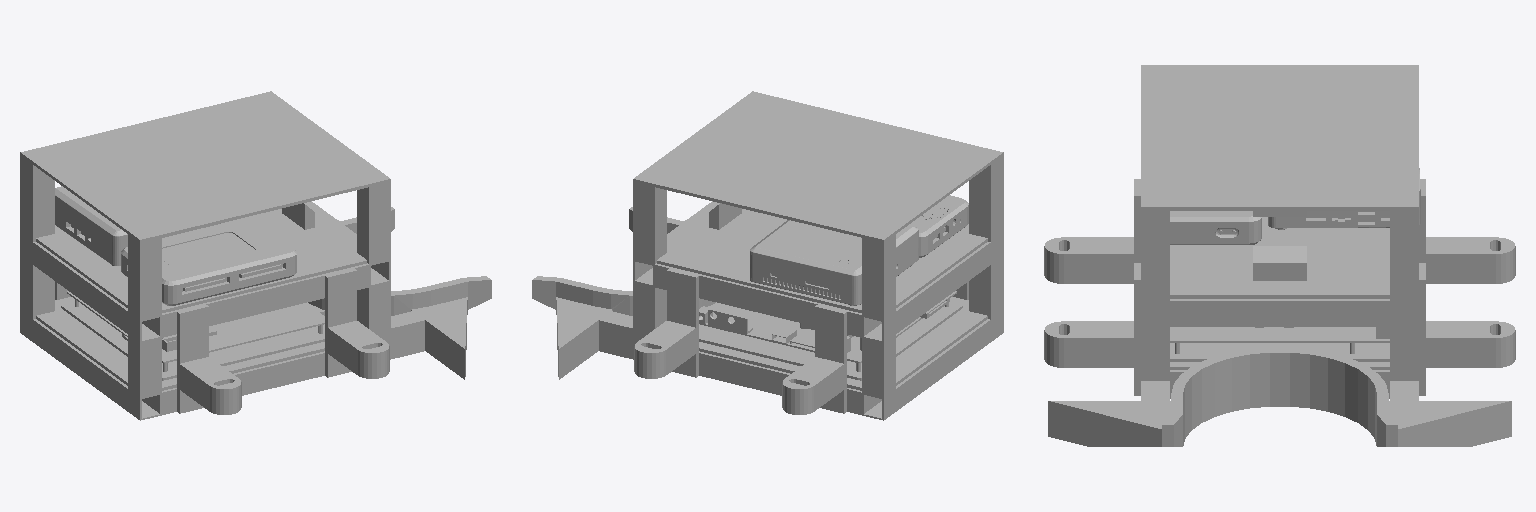
robot.urdf — lide:
<?xml version="1.0" encoding="utf-8"?>
<!-- This URDF was automatically created by SolidWorks to URDF Exporter! Originally created by [author] ([email redacted]) 
     Commit Version: 1.5.1-0-g916b5db  Build Version: 1.5.7152.31018
     For more information, please see http://wiki.ros.org/sw_urdf_exporter -->
<robot
  name="lide">
  <link
    name="base_link">
    <inertial>
      <origin
        xyz="-0.0875241348219497 0.00132743425076956 0.0474630684459225"
        rpy="0 0 0" />
      <mass
        value="3.15295004835025" />
      <inertia
        ixx="0.00732952370902921"
        ixy="-5.4757788471543E-07"
        ixz="-7.36488484962941E-06"
        iyy="0.00563296593577528"
        iyz="-3.00885497223983E-07"
        izz="0.0122350442649522" />
    </inertial>
    <visual>
      <origin
        xyz="0 0 0"
        rpy="0 0 0" />
      <geometry>
        <mesh
          filename="package://lide/meshes/base_link.STL" />
      </geometry>
      <material
        name="">
        <color
          rgba="0.752941176470588 0.752941176470588 0.752941176470588 1" />
      </material>
    </visual>
    <collision>
      <origin
        xyz="0 0 0"
        rpy="0 0 0" />
      <geometry>
        <mesh
          filename="package://lide/meshes/base_link.STL" />
      </geometry>
    </collision>
  </link>
  <link
    name="LFS">
    <inertial>
      <origin
        xyz="0.0455604268709419 0.00830943309140329 0.00297622851896683"
        rpy="0 0 0" />
      <mass
        value="0.0727928435161987" />
      <inertia
        ixx="2.20927876796313E-05"
        ixy="-1.64845302056351E-08"
        ixz="-1.5645477317521E-07"
        iyy="1.62632133784213E-05"
        iyz="2.96411876511619E-09"
        izz="1.80843397531752E-05" />
    </inertial>
    <visual>
      <origin
        xyz="0 0 0"
        rpy="0 0 0" />
      <geometry>
        <mesh
          filename="package://lide/meshes/LFS.STL" />
      </geometry>
      <material
        name="">
        <color
          rgba="0.752941176470588 0.752941176470588 0.752941176470588 1" />
      </material>
    </visual>
    <collision>
      <origin
        xyz="0 0 0"
        rpy="0 0 0" />
      <geometry>
        <mesh
          filename="package://lide/meshes/LFS.STL" />
      </geometry>
    </collision>
  </link>
  <joint
    name="LFS"
    type="fixed">
    <origin
      xyz="-0.021044 0.11715 -0.036503"
      rpy="1.5708 0 1.5708" />
    <parent
      link="base_link" />
    <child
      link="LFS" />
    <axis
      xyz="0 0 0" />
  </joint>
  <link
    name="LFW">
    <inertial>
      <origin
        xyz="0.015 0 2.60208521396521E-18"
        rpy="0 0 0" />
      <mass
        value="0.767080911081153" />
      <inertia
        ixx="0.00116426102407189"
        ixy="-1.25105048588129E-22"
        ixz="-1.83311841364852E-20"
        iyy="0.000639661580367031"
        iyz="-3.3881317890172E-21"
        izz="0.000639661580367032" />
    </inertial>
    <visual>
      <origin
        xyz="0 0 0"
        rpy="0 0 0" />
      <geometry>
        <mesh
          filename="package://lide/meshes/LFW.STL" />
      </geometry>
      <material
        name="">
        <color
          rgba="0.898039215686275 0.917647058823529 0.929411764705882 1" />
      </material>
    </visual>
    <collision>
      <origin
        xyz="0 0 0"
        rpy="0 0 0" />
      <geometry>
        <mesh
          filename="package://lide/meshes/LFW.STL" />
      </geometry>
    </collision>
  </link>
  <joint
    name="LFW"
    type="continuous">
    <origin
      xyz="0.063346 -0.006798 0.015044"
      rpy="-1.6264 0 0" />
    <parent
      link="LFS" />
    <child
      link="LFW" />
    <axis
      xyz="1 0 0" />
    <limit
      effort="3.1"
      velocity="7" />
  </joint>
  <link
    name="RFS">
    <inertial>
      <origin
        xyz="-0.0191828308457407 -0.00900932874707057 0.0520056318885905"
        rpy="0 0 0" />
      <mass
        value="0.0727928435161986" />
      <inertia
        ixx="2.20927876796313E-05"
        ixy="-1.64845302056322E-08"
        ixz="1.56454773175213E-07"
        iyy="1.62632133784213E-05"
        iyz="-2.96411876510618E-09"
        izz="1.80843397531752E-05" />
    </inertial>
    <visual>
      <origin
        xyz="0 0 0"
        rpy="0 0 0" />
      <geometry>
        <mesh
          filename="package://lide/meshes/RFS.STL" />
      </geometry>
      <material
        name="">
        <color
          rgba="0.752941176470588 0.752941176470588 0.752941176470588 1" />
      </material>
    </visual>
    <collision>
      <origin
        xyz="0 0 0"
        rpy="0 0 0" />
      <geometry>
        <mesh
          filename="package://lide/meshes/RFS.STL" />
      </geometry>
    </collision>
  </link>
  <joint
    name="RFS"
    type="fixed">
    <origin
      xyz="-0.070073 -0.14353 -0.019216"
      rpy="1.5708 0 1.5708" />
    <parent
      link="base_link" />
    <child
      link="RFS" />
    <axis
      xyz="0 0 0" />
  </joint>
  <link
    name="RFW">
    <inertial>
      <origin
        xyz="-0.015 1.0842021724855E-19 0"
        rpy="0 0 0" />
      <mass
        value="0.767080911081152" />
      <inertia
        ixx="0.00116426102407189"
        ixy="-5.00173420246734E-37"
        ixz="4.60638074444741E-39"
        iyy="0.000639661580367031"
        iyz="-2.21718708608611E-36"
        izz="0.000639661580367031" />
    </inertial>
    <visual>
      <origin
        xyz="0 0 0"
        rpy="0 0 0" />
      <geometry>
        <mesh
          filename="package://lide/meshes/RFW.STL" />
      </geometry>
      <material
        name="">
        <color
          rgba="0.898039215686275 0.917647058823529 0.929411764705882 1" />
      </material>
    </visual>
    <collision>
      <origin
        xyz="0 0 0"
        rpy="0 0 0" />
      <geometry>
        <mesh
          filename="package://lide/meshes/RFW.STL" />
      </geometry>
    </collision>
  </link>
  <joint
    name="RFW"
    type="continuous">
    <origin
      xyz="-0.036969 -0.024084 0.064073"
      rpy="0 0 0" />
    <parent
      link="RFS" />
    <child
      link="RFW" />
    <axis
      xyz="1 0 0" />
    <limit
      effort="3.1"
      velocity="7" />
  </joint>
  <link
    name="LBS">
    <inertial>
      <origin
        xyz="5.55111512312578E-17 -0.027907712769626 0"
        rpy="0 0 0" />
      <mass
        value="0.154274604919348" />
      <inertia
        ixx="0.000102170595380653"
        ixy="-1.61500165422644E-20"
        ixz="3.3708933537889E-20"
        iyy="9.22222134098982E-05"
        iyz="-1.56310976810288E-20"
        izz="0.000101581618993256" />
    </inertial>
    <visual>
      <origin
        xyz="0 0 0"
        rpy="0 0 0" />
      <geometry>
        <mesh
          filename="package://lide/meshes/LBS.STL" />
      </geometry>
      <material
        name="">
        <color
          rgba="0.898039215686275 0.917647058823529 0.929411764705882 1" />
      </material>
    </visual>
    <collision>
      <origin
        xyz="0 0 0"
        rpy="0 0 0" />
      <geometry>
        <mesh
          filename="package://lide/meshes/LBS.STL" />
      </geometry>
    </collision>
  </link>
  <joint
    name="LBS"
    type="fixed">
    <origin
      xyz="-0.169 0.16275 -0.012562"
      rpy="1.5708 0 1.5708" />
    <parent
      link="base_link" />
    <child
      link="LBS" />
    <axis
      xyz="0 0 0" />
  </joint>
  <link
    name="LBW">
    <inertial>
      <origin
        xyz="-0.00179999999999999 0 0"
        rpy="0 0 0" />
      <mass
        value="0.300793834102321" />
      <inertia
        ixx="0.000108556494727528"
        ixy="-4.30134816005762E-56"
        ixz="2.83140612439068E-40"
        iyy="0.000109910066980988"
        iyz="7.74861998833051E-40"
        izz="0.000108556494727528" />
    </inertial>
    <visual>
      <origin
        xyz="0 0 0"
        rpy="0 0 0" />
      <geometry>
        <mesh
          filename="package://lide/meshes/LBW.STL" />
      </geometry>
      <material
        name="">
        <color
          rgba="0.898039215686275 0.917647058823529 0.929411764705882 1" />
      </material>
    </visual>
    <collision>
      <origin
        xyz="0 0 0"
        rpy="0 0 0" />
      <geometry>
        <mesh
          filename="package://lide/meshes/LBW.STL" />
      </geometry>
    </collision>
  </link>
  <joint
    name="LBW"
    type="fixed">
    <origin
      xyz="0 -0.053938 0"
      rpy="3.1416 0 1.5708" />
    <parent
      link="LBS" />
    <child
      link="LBW" />
    <axis
      xyz="0 0 0" />
    <limit
      lower="0"
      upper="0"
      effort="0"
      velocity="0" />
  </joint>
  <link
    name="RBS">
    <inertial>
      <origin
        xyz="1.3878E-17 -0.027908 2.7756E-17"
        rpy="0 0 0" />
      <mass
        value="0.15427" />
      <inertia
        ixx="0.00010217"
        ixy="2.9422E-20"
        ixz="1.5198E-20"
        iyy="9.2222E-05"
        iyz="-1.5631E-20"
        izz="0.00010158" />
    </inertial>
    <visual>
      <origin
        xyz="0 0 0"
        rpy="0 0 0" />
      <geometry>
        <mesh
          filename="package://lide/meshes/RBS.STL" />
      </geometry>
      <material
        name="">
        <color
          rgba="0.89804 0.91765 0.92941 1" />
      </material>
    </visual>
    <collision>
      <origin
        xyz="0 0 0"
        rpy="0 0 0" />
      <geometry>
        <mesh
          filename="package://lide/meshes/RBS.STL" />
      </geometry>
    </collision>
  </link>
  <joint
    name="RBS"
    type="fixed">
    <origin
      xyz="-0.169 -0.16275 -0.012562"
      rpy="1.5708 0 1.5708" />
    <parent
      link="base_link" />
    <child
      link="RBS" />
    <axis
      xyz="0 0 0" />
  </joint>
  <link
    name="RBW">
    <inertial>
      <origin
        xyz="0.0018 6.9389E-18 -8.3267E-17"
        rpy="0 0 0" />
      <mass
        value="0.30079" />
      <inertia
        ixx="0.00010856"
        ixy="0"
        ixz="2.6461E-40"
        iyy="0.00010991"
        iyz="-7.7486E-40"
        izz="0.00010856" />
    </inertial>
    <visual>
      <origin
        xyz="0 0 0"
        rpy="0 0 0" />
      <geometry>
        <mesh
          filename="package://lide/meshes/RBW.STL" />
      </geometry>
      <material
        name="">
        <color
          rgba="0.89804 0.91765 0.92941 1" />
      </material>
    </visual>
    <collision>
      <origin
        xyz="0 0 0"
        rpy="0 0 0" />
      <geometry>
        <mesh
          filename="package://lide/meshes/RBW.STL" />
      </geometry>
    </collision>
  </link>
  <joint
    name="RBW"
    type="fixed">
    <origin
      xyz="0 -0.053938 0"
      rpy="0 0 -1.5708" />
    <parent
      link="RBS" />
    <child
      link="RBW" />
    <axis
      xyz="0 0 0" />
    <limit
      lower="0"
      upper="0"
      effort="0"
      velocity="0" />
  </joint>
  <link
    name="fcam">
    <inertial>
      <origin
        xyz="-0.0115544746517359 -2.64429642850283E-06 0.00129029302682188"
        rpy="0 0 0" />
      <mass
        value="0.0436119957238951" />
      <inertia
        ixx="2.35707061906176E-05"
        ixy="-1.01842273867769E-09"
        ixz="2.17585832536704E-08"
        iyy="4.29479050056029E-06"
        iyz="-8.85018118704009E-10"
        izz="2.21058153511885E-05" />
    </inertial>
    <visual>
      <origin
        xyz="0 0 0"
        rpy="0 0 0" />
      <geometry>
        <mesh
          filename="package://lide/meshes/fcam.STL" />
      </geometry>
      <material
        name="">
        <color
          rgba="0.792156862745098 0.819607843137255 0.933333333333333 1" />
      </material>
    </visual>
    <collision>
      <origin
        xyz="0 0 0"
        rpy="0 0 0" />
      <geometry>
        <mesh
          filename="package://lide/meshes/fcam.STL" />
      </geometry>
    </collision>
  </link>
  <joint
    name="fcam"
    type="fixed">
    <origin
      xyz="0.029118 0 0.12982"
      rpy="0 0.2618 0" />
    <parent
      link="base_link" />
    <child
      link="fcam" />
    <axis
      xyz="0 0 0" />
  </joint>
  <link
    name="bcam">
    <inertial>
      <origin
        xyz="-0.0201034645299101 -2.64354903262154E-06 -0.007258695056636"
        rpy="0 0 0" />
      <mass
        value="0.0436119949785284" />
      <inertia
        ixx="2.357070560996E-05"
        ixy="-1.01834758005803E-09"
        ixz="2.17579332532706E-08"
        iyy="4.29479078276664E-06"
        iyz="-8.85484503941572E-10"
        izz="2.21058144654637E-05" />
    </inertial>
    <visual>
      <origin
        xyz="0 0 0"
        rpy="0 0 0" />
      <geometry>
        <mesh
          filename="package://lide/meshes/bcam.STL" />
      </geometry>
      <material
        name="">
        <color
          rgba="0.792156862745098 0.819607843137255 0.933333333333333 1" />
      </material>
    </visual>
    <collision>
      <origin
        xyz="0 0 0"
        rpy="0 0 0" />
      <geometry>
        <mesh
          filename="package://lide/meshes/bcam.STL" />
      </geometry>
    </collision>
  </link>
  <joint
    name="bcam"
    type="fixed">
    <origin
      xyz="0.033 0 0.091232"
      rpy="0 0.7854 0" />
    <parent
      link="base_link" />
    <child
      link="bcam" />
    <axis
      xyz="0 0 0" />
  </joint>
  <link
    name="Lidar">
    <inertial>
      <origin
        xyz="0.0135233595898182 0.000461955965224928 -0.0287648854972774"
        rpy="0 0 0" />
      <mass
        value="0.0730845717093785" />
      <inertia
        ixx="1.95808757100143E-05"
        ixy="-1.03933583224414E-07"
        ixz="-4.2839116880442E-07"
        iyy="2.4125007965289E-05"
        iyz="9.42710385447122E-09"
        izz="4.14184516027963E-05" />
    </inertial>
    <visual>
      <origin
        xyz="0 0 0"
        rpy="0 0 0" />
      <geometry>
        <mesh
          filename="package://lide/meshes/Lidar.STL" />
      </geometry>
      <material
        name="">
        <color
          rgba="0.792156862745098 0.819607843137255 0.933333333333333 1" />
      </material>
    </visual>
    <collision>
      <origin
        xyz="0 0 0"
        rpy="0 0 0" />
      <geometry>
        <mesh
          filename="package://lide/meshes/Lidar.STL" />
      </geometry>
    </collision>
  </link>
  <joint
    name="Lidar"
    type="fixed">
    <origin
      xyz="-0.17158 -0.00099405 0.2065"
      rpy="0 0 0" />
    <parent
      link="base_link" />
    <child
      link="Lidar" />
    <axis
      xyz="0 0 0" />
  </joint>
  <link
    name="imu_link">
    <inertial>
      <origin
        xyz="0 0 0"
        rpy="0 0 0" />
      <mass
        value="0" />
      <inertia
        ixx="0"
        ixy="0"
        ixz="0"
        iyy="0"
        iyz="0"
        izz="0" />
    </inertial>
    <visual>
      <origin
        xyz="0 0 0"
        rpy="0 0 0" />
      <geometry>
        <mesh
          filename="package://lide/meshes/imu_link.STL" />
      </geometry>
      <material
        name="">
        <color
          rgba="1 1 1 1" />
      </material>
    </visual>
    <collision>
      <origin
        xyz="0 0 0"
        rpy="0 0 0" />
      <geometry>
        <mesh
          filename="package://lide/meshes/imu_link.STL" />
      </geometry>
    </collision>
  </link>
  <joint
    name="imu_link"
    type="fixed">
    <origin
      xyz="-0.007625 0 0.155"
      rpy="0 0 0" />
    <parent
      link="base_link" />
    <child
      link="imu_link" />
    <axis
      xyz="0 0 0" />
  </joint>
</robot>

--- Facts derived from the render (not from the file) ---
The picture shows the robot from 3 angles, left to right: view 1: azimuth 30°, elevation 25°; view 2: azimuth 150°, elevation 25°; view 3: azimuth 270°, elevation 25°; orthographic projection.
Model lide with 13 links and 12 joints (2 continuous, 10 fixed), rooted at base_link, posed every joint at zero.
Visible links, largest first — view 1: base_link; view 2: base_link; view 3: base_link.
Link boxes in pixels (x1=…): base_link: x1=20, y1=91, x2=491, y2=420; base_link: x1=532, y1=91, x2=1003, y2=420; base_link: x1=1044, y1=65, x2=1515, y2=446.
Bounding box of the posed robot: 0.365 × 0.3555 × 0.175 m (x, y, z).
1 mesh visuals loaded from 13 distinct referenced files (1 binary STL); not drawn: 12 (reference not matched to a file when rendering).